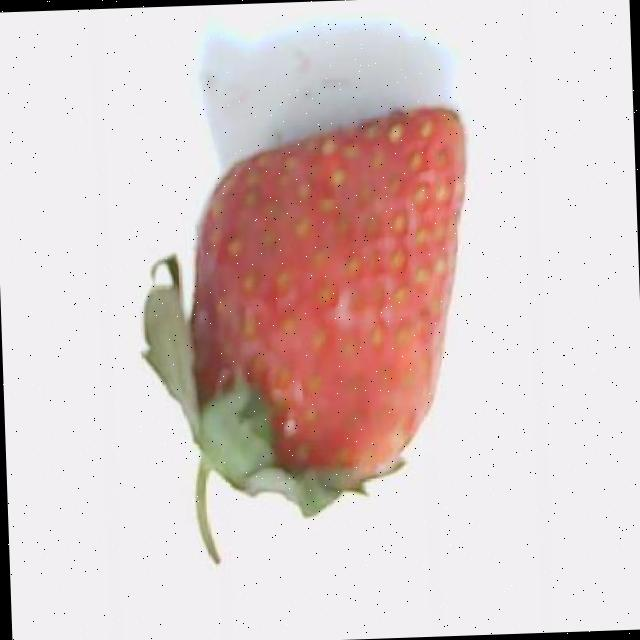strawberry: (144, 108, 463, 561)
